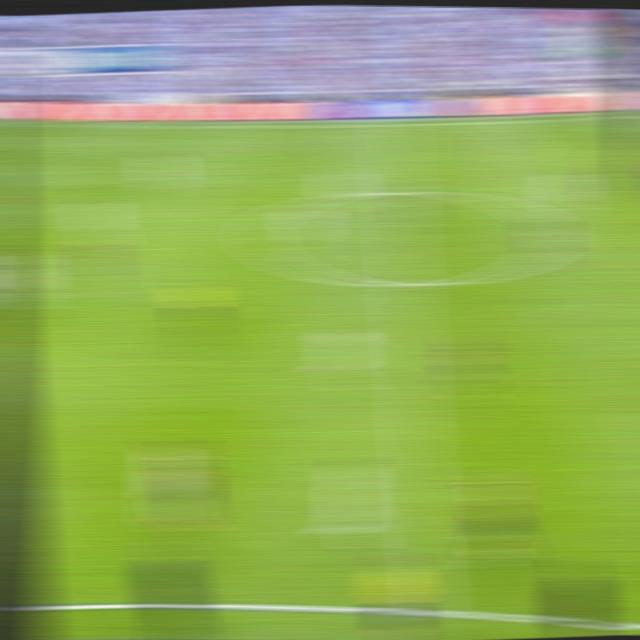halfcircle_bottom: (386, 267, 424, 300)
halfcircle_top: (381, 177, 416, 204)
midline_bottom_intersection: (410, 588, 450, 623)
midline_top_intersection: (378, 118, 409, 133)
